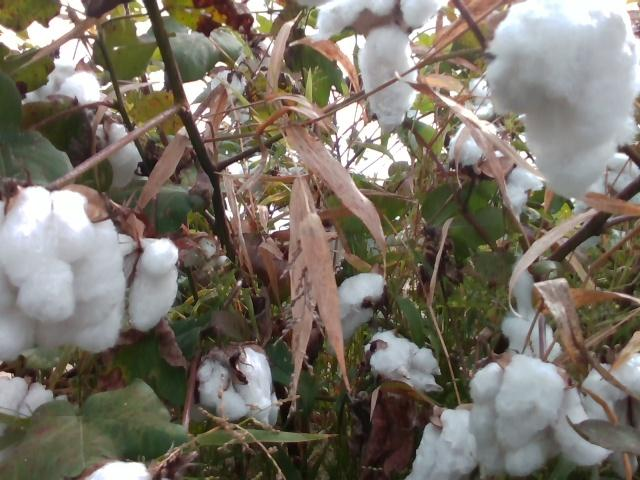cotton_ready: (485, 0, 640, 197), (0, 185, 127, 359), (471, 356, 615, 477), (318, 0, 438, 127), (198, 344, 279, 424), (116, 236, 179, 332), (502, 267, 564, 362), (407, 407, 478, 480), (365, 331, 442, 392), (20, 62, 101, 109), (577, 153, 640, 212), (585, 353, 640, 420), (0, 372, 68, 418), (339, 273, 386, 336), (94, 124, 138, 187), (446, 120, 497, 166), (183, 241, 233, 281), (500, 171, 544, 214), (461, 78, 494, 117), (212, 69, 246, 104), (86, 462, 148, 480), (238, 41, 271, 74)
